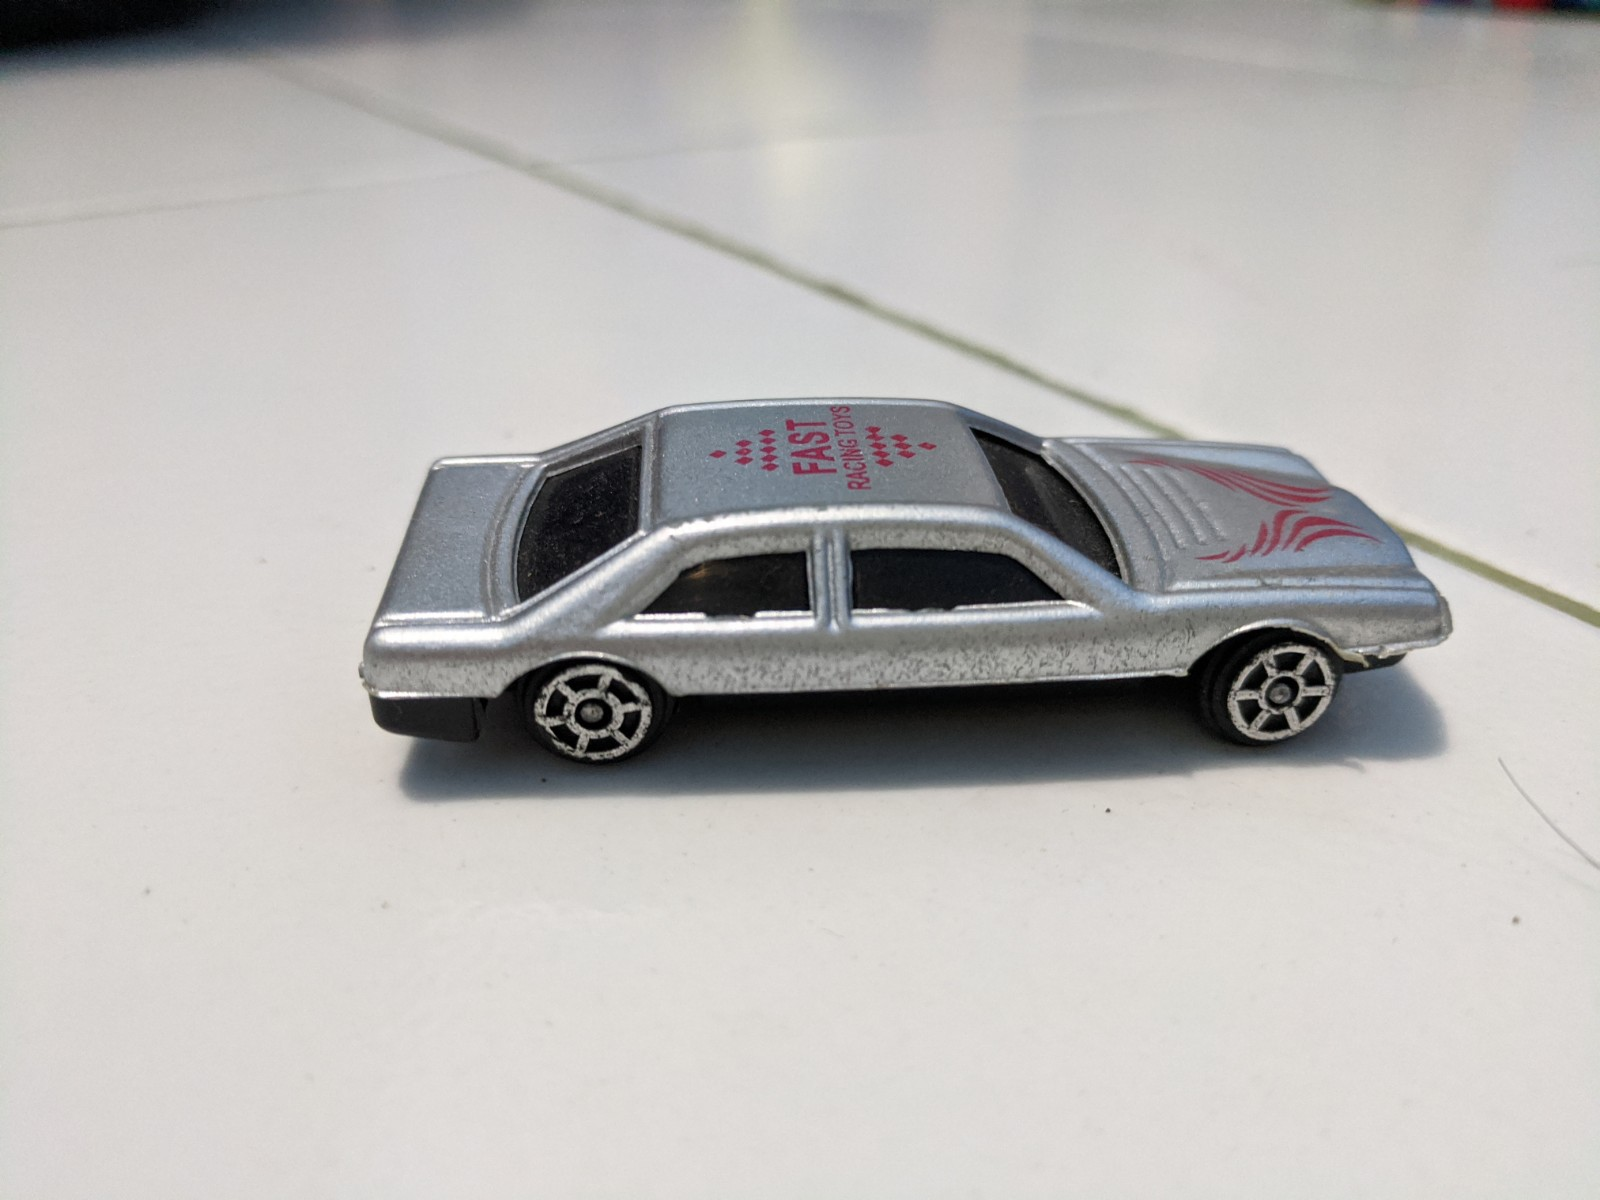mobil: (370, 395, 1463, 797)
